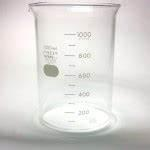Beaker: (27, 3, 132, 133)
